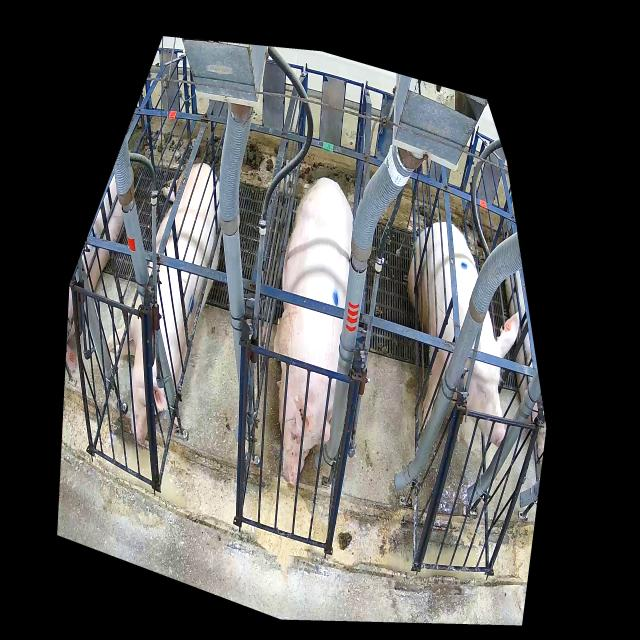pig: (107, 162, 222, 446), (408, 222, 519, 446), (274, 177, 353, 485)
